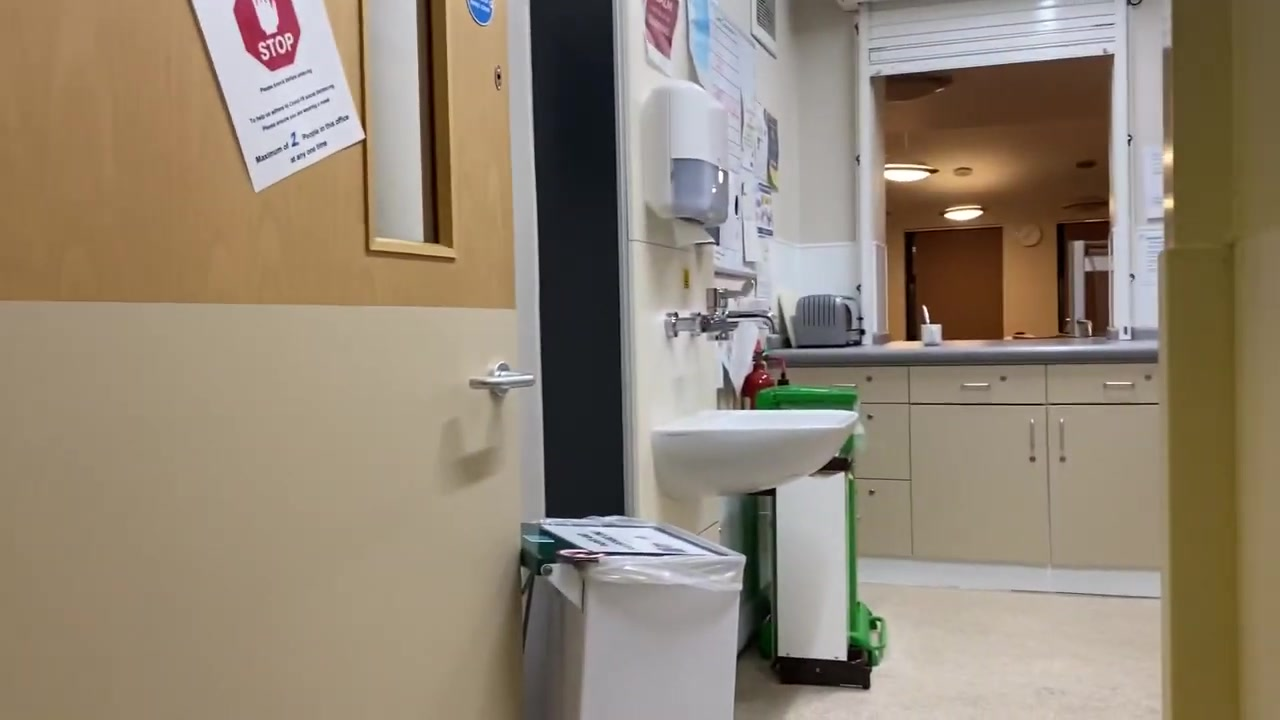counter: (762, 340, 1160, 598)
dispenser: (641, 79, 729, 249)
door_handle: (465, 358, 538, 400)
faucet: (665, 278, 780, 341)
handle: (1101, 373, 1136, 397), (1054, 415, 1069, 462), (956, 376, 992, 395), (1024, 416, 1037, 464)
sink: (649, 408, 860, 498)
waste_bin: (519, 515, 746, 720), (747, 384, 887, 690)
